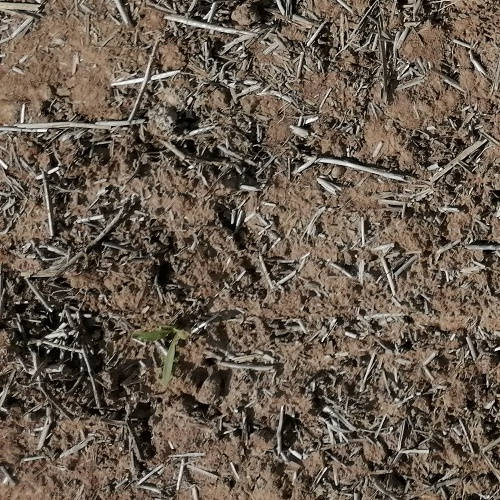beet: (136, 322, 186, 390)
